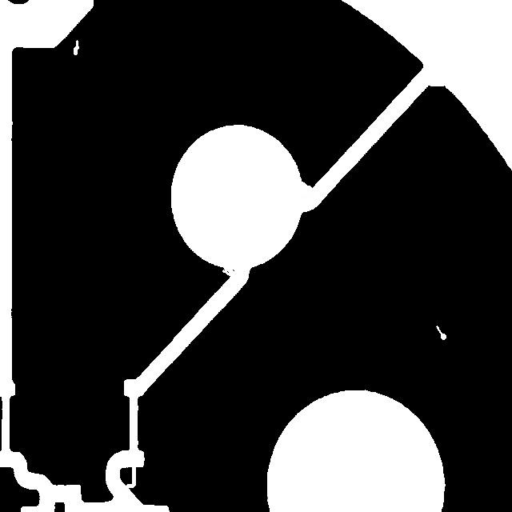mousebite: (290, 173, 320, 202), (418, 69, 452, 94), (214, 253, 242, 283)
open: (114, 458, 143, 497)
pin-hole: (428, 318, 454, 347), (66, 32, 86, 62)
